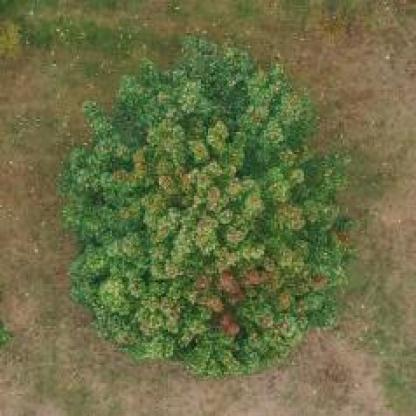Deciduous Tree: (61, 21, 358, 382)
